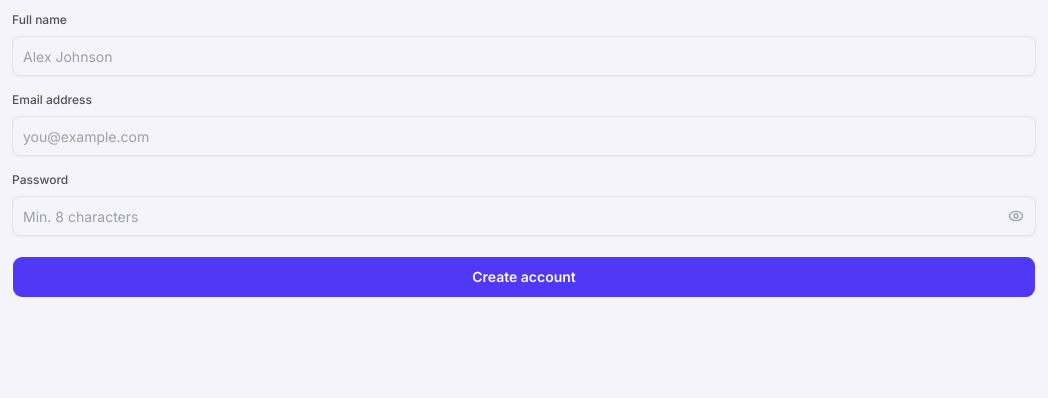
Test: Register › displays correct validation errors on invalid inputs
Click the button "Create account".
click(524, 277)  # box 12,256 -> 1036,298
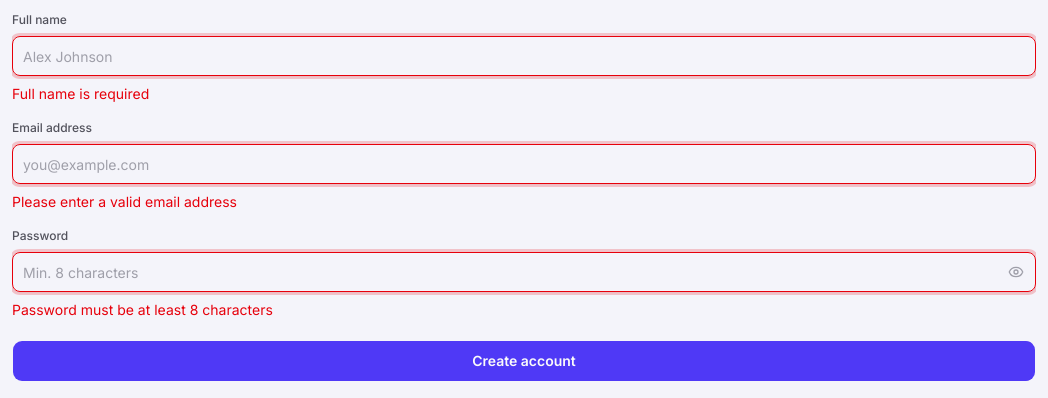
Result: the text "Full name is required" is shown at 12,85 -> 149,102
Result: the text "Please enter a valid email address" is shown at 12,193 -> 237,210
Result: the text "Password must be at least 8 characters" is shown at 12,301 -> 273,318
